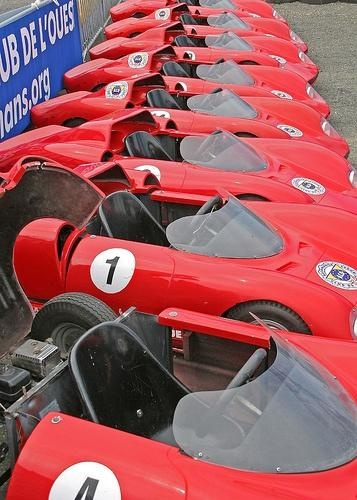car: (2, 295, 356, 500), (3, 157, 357, 342), (2, 110, 357, 186), (63, 46, 338, 118), (34, 74, 357, 133), (94, 24, 321, 75), (105, 8, 311, 53), (111, 2, 289, 23)
